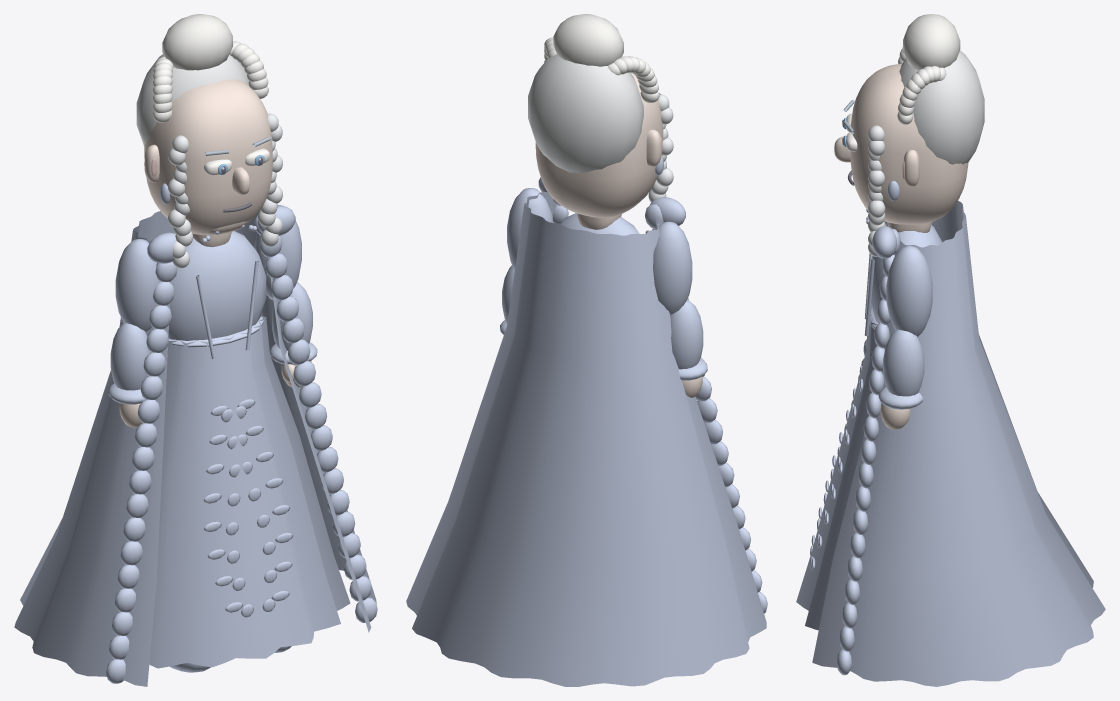
File: nyrexia.glb
The picture shows the model from 3 angles, left to right: view 1: azimuth 30°, elevation 25°; view 2: azimuth 150°, elevation 25°; view 3: azimuth 270°, elevation 25°; orthographic projection.
Parts seen in each view (by area): view 1: Sixteen pleat bell gown, Trailing winter mantle, Face, Corseted bodice, Fitted sleeve (×2), Braided royal bun, Forearm sleeve (×2), Silver hair silhouette, Etched shoulder clasp, Ornate silver waist girdle; view 2: Trailing winter mantle, Silver hair silhouette, Face, Fitted sleeve (×2), Braided royal bun, Forearm sleeve, Corseted bodice, Etched shoulder clasp; view 3: Trailing winter mantle, Face, Silver hair silhouette, Sixteen pleat bell gown, Fitted sleeve, Braided royal bun, Forearm sleeve, Corseted bodice, Etched shoulder clasp, Ivory cuff, Hand, Ear 1.
Boxes of the visible parts, x1,y1,x2,y2 form: Sixteen pleat bell gown: [149, 311, 350, 668]; Trailing winter mantle: [14, 210, 376, 686]; Face: [144, 79, 272, 234]; Corseted bodice: [168, 231, 266, 340]; Fitted sleeve (×2): [115, 205, 301, 331]; Braided royal bun: [162, 14, 232, 70]; Forearm sleeve (×2): [110, 282, 312, 390]; Silver hair silhouette: [136, 54, 249, 145]; Etched shoulder clasp: [147, 232, 176, 263]; Ornate silver waist girdle: [169, 316, 263, 347]; Trailing winter mantle: [406, 192, 766, 686]; Silver hair silhouette: [528, 54, 643, 172]; Face: [535, 73, 663, 217]; Fitted sleeve (×2): [507, 188, 692, 315]; Braided royal bun: [553, 14, 623, 66]; Forearm sleeve: [670, 299, 703, 369]; Corseted bodice: [560, 213, 639, 235]; Etched shoulder clasp: [650, 197, 685, 225]; Trailing winter mantle: [812, 201, 1105, 686]; Face: [850, 64, 968, 224]; Silver hair silhouette: [899, 50, 984, 164]; Sixteen pleat bell gown: [796, 315, 877, 630]; Fitted sleeve: [886, 245, 932, 337]; Braided royal bun: [903, 14, 960, 70]; Forearm sleeve: [883, 329, 924, 396]; Corseted bodice: [869, 225, 942, 323]; Etched shoulder clasp: [872, 226, 896, 258]; Ivory cuff: [878, 386, 922, 409]; Hand: [880, 403, 910, 429]; Ear 1: [903, 149, 919, 186].
Bounding box in the file's own units: 1.14 × 2.1 × 0.9593.
